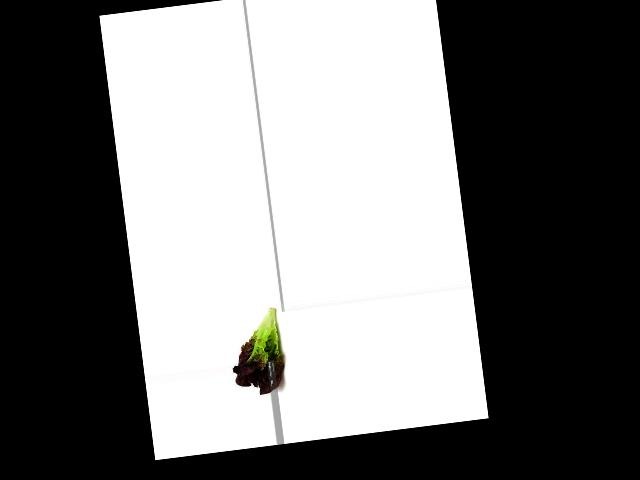lettuce: (224, 303, 291, 399)
